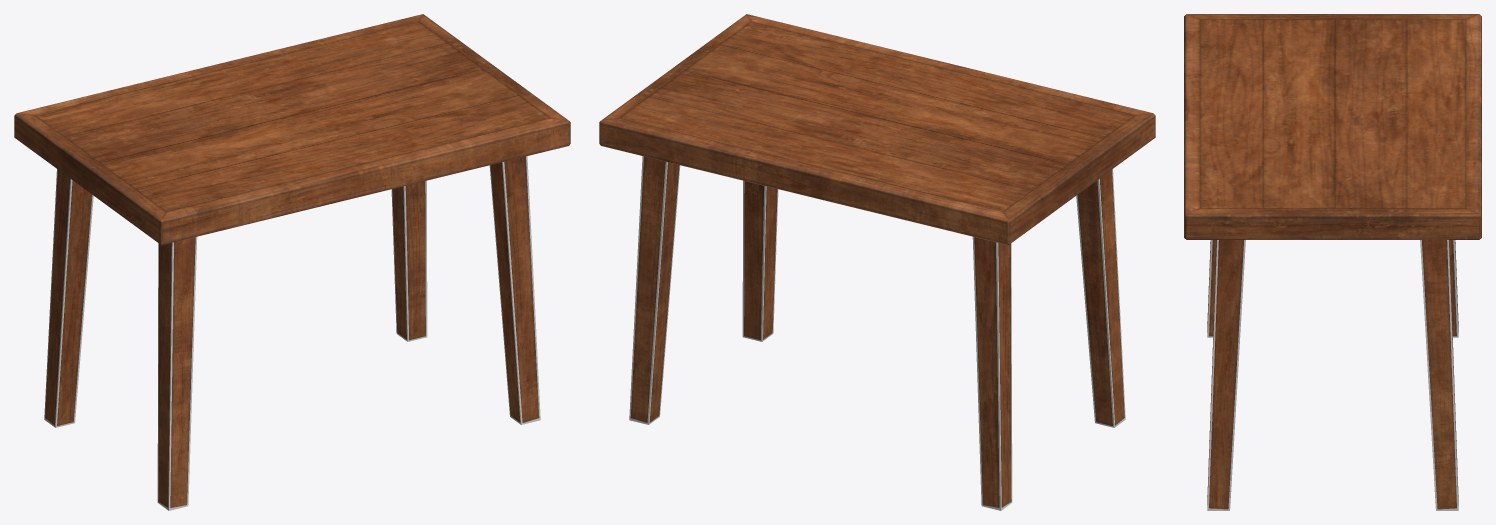
File: wooden_table_02.fbx
3 views of the same model, side by side, from view 1: azimuth 30°, elevation 25°; view 2: azimuth 150°, elevation 25°; view 3: azimuth 270°, elevation 25° (orthographic).
Parts seen in each view (by area): view 1: wooden_table_02, legs.001; view 2: wooden_table_02, legs.001; view 3: wooden_table_02, legs.001.
Part boxes in pixels (x1,y1,x2,y2): wooden_table_02: [14, 14, 570, 507]; legs.001: [44, 156, 540, 510]; wooden_table_02: [599, 14, 1155, 507]; legs.001: [629, 156, 1125, 510]; wooden_table_02: [1184, 14, 1481, 509]; legs.001: [1207, 240, 1458, 510].
Bounding box in the file's own units: 44.66 × 27.8 × 31.48.
